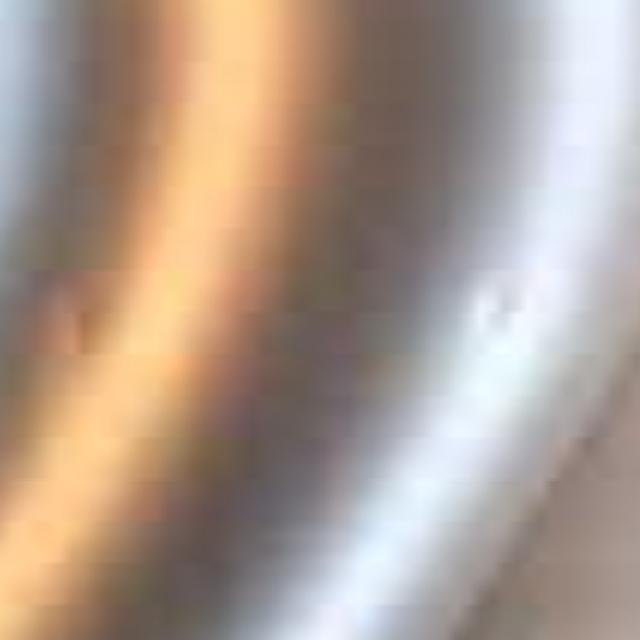dents: (21, 266, 209, 388), (468, 256, 556, 361)
